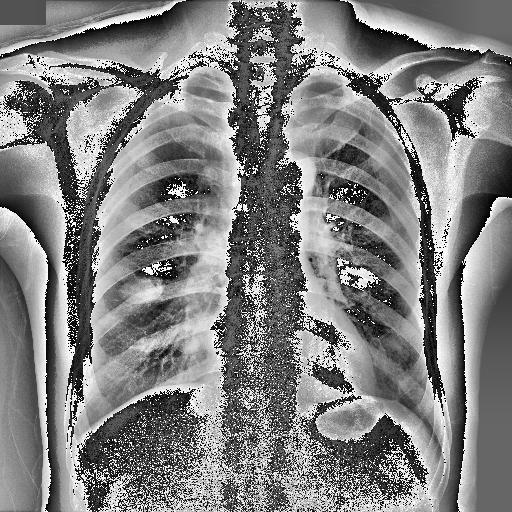10- Pleural effusion: (64, 426, 86, 446)
11- Pleural thickening: (310, 66, 362, 86), (294, 66, 350, 79), (174, 62, 210, 79), (64, 426, 86, 446), (176, 66, 218, 76)
7- Lung Opacity: (117, 274, 161, 303)
8- Nodule-Mass: (117, 274, 161, 303), (120, 276, 162, 304), (118, 280, 164, 303), (176, 335, 200, 353)
